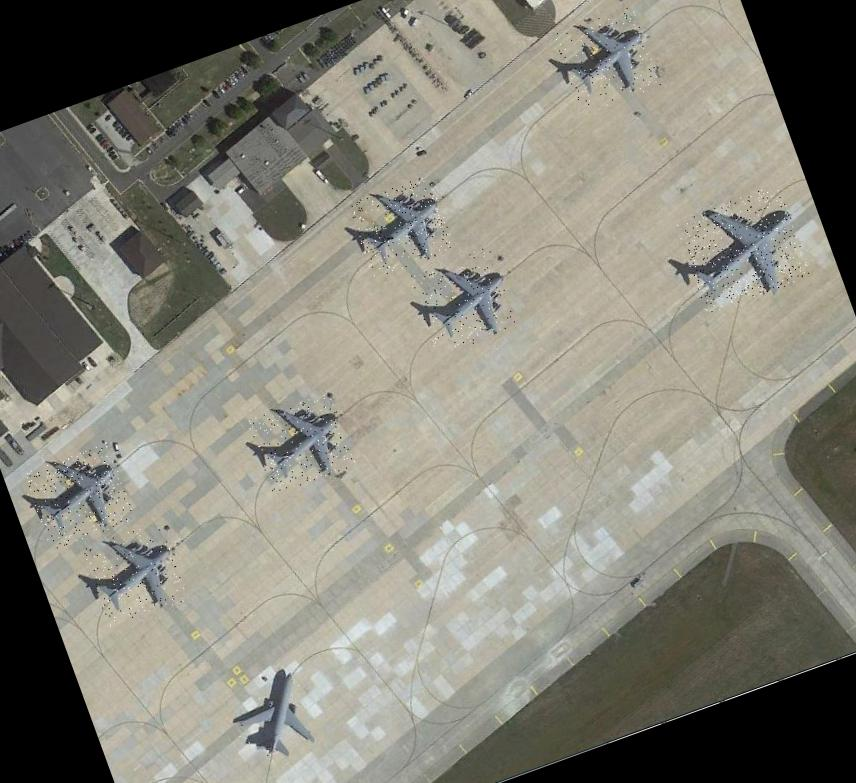A18: (220, 664, 320, 766)
A3: (408, 245, 519, 356), (23, 441, 136, 550), (80, 520, 188, 628), (553, 5, 661, 113), (246, 390, 356, 494), (346, 174, 456, 278)
A4: (674, 183, 812, 314)
